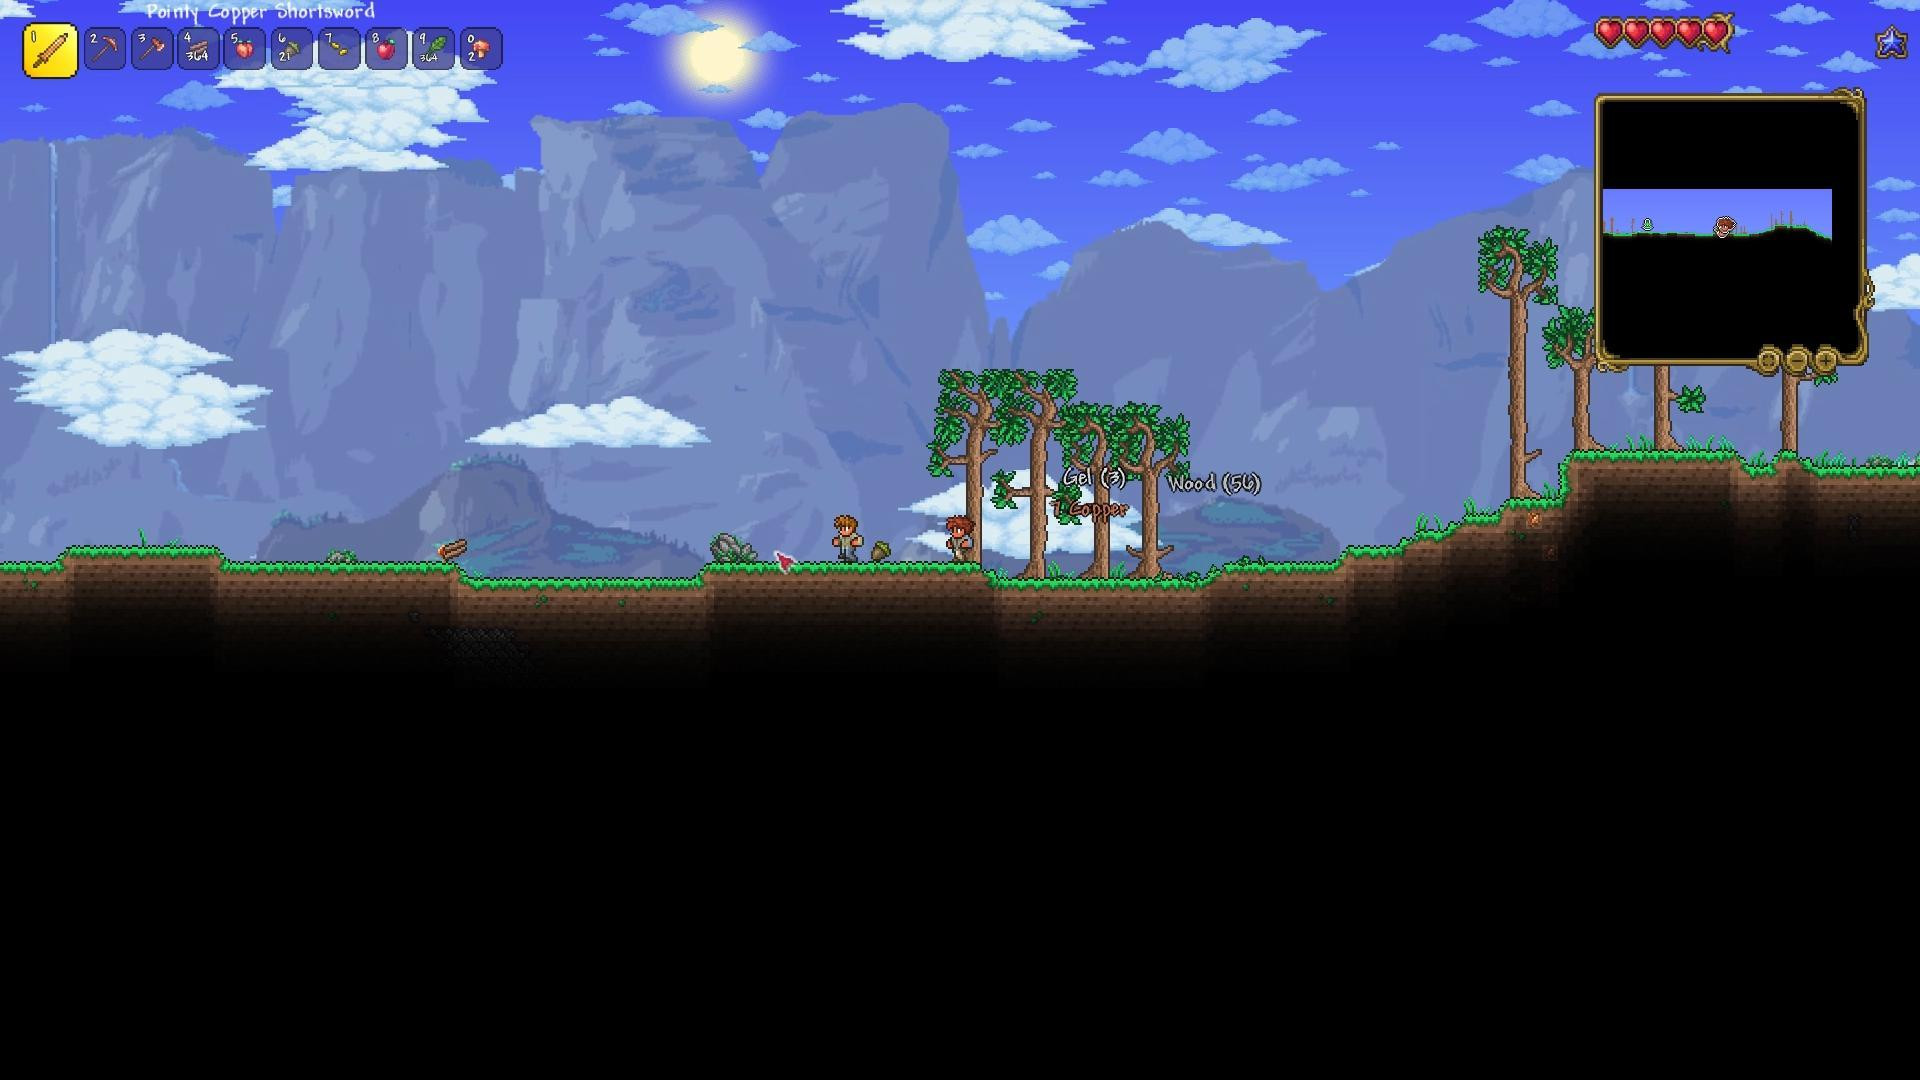dirt: (1258, 446, 1576, 576), (0, 541, 704, 595), (699, 560, 1259, 603), (1553, 444, 1920, 498)
